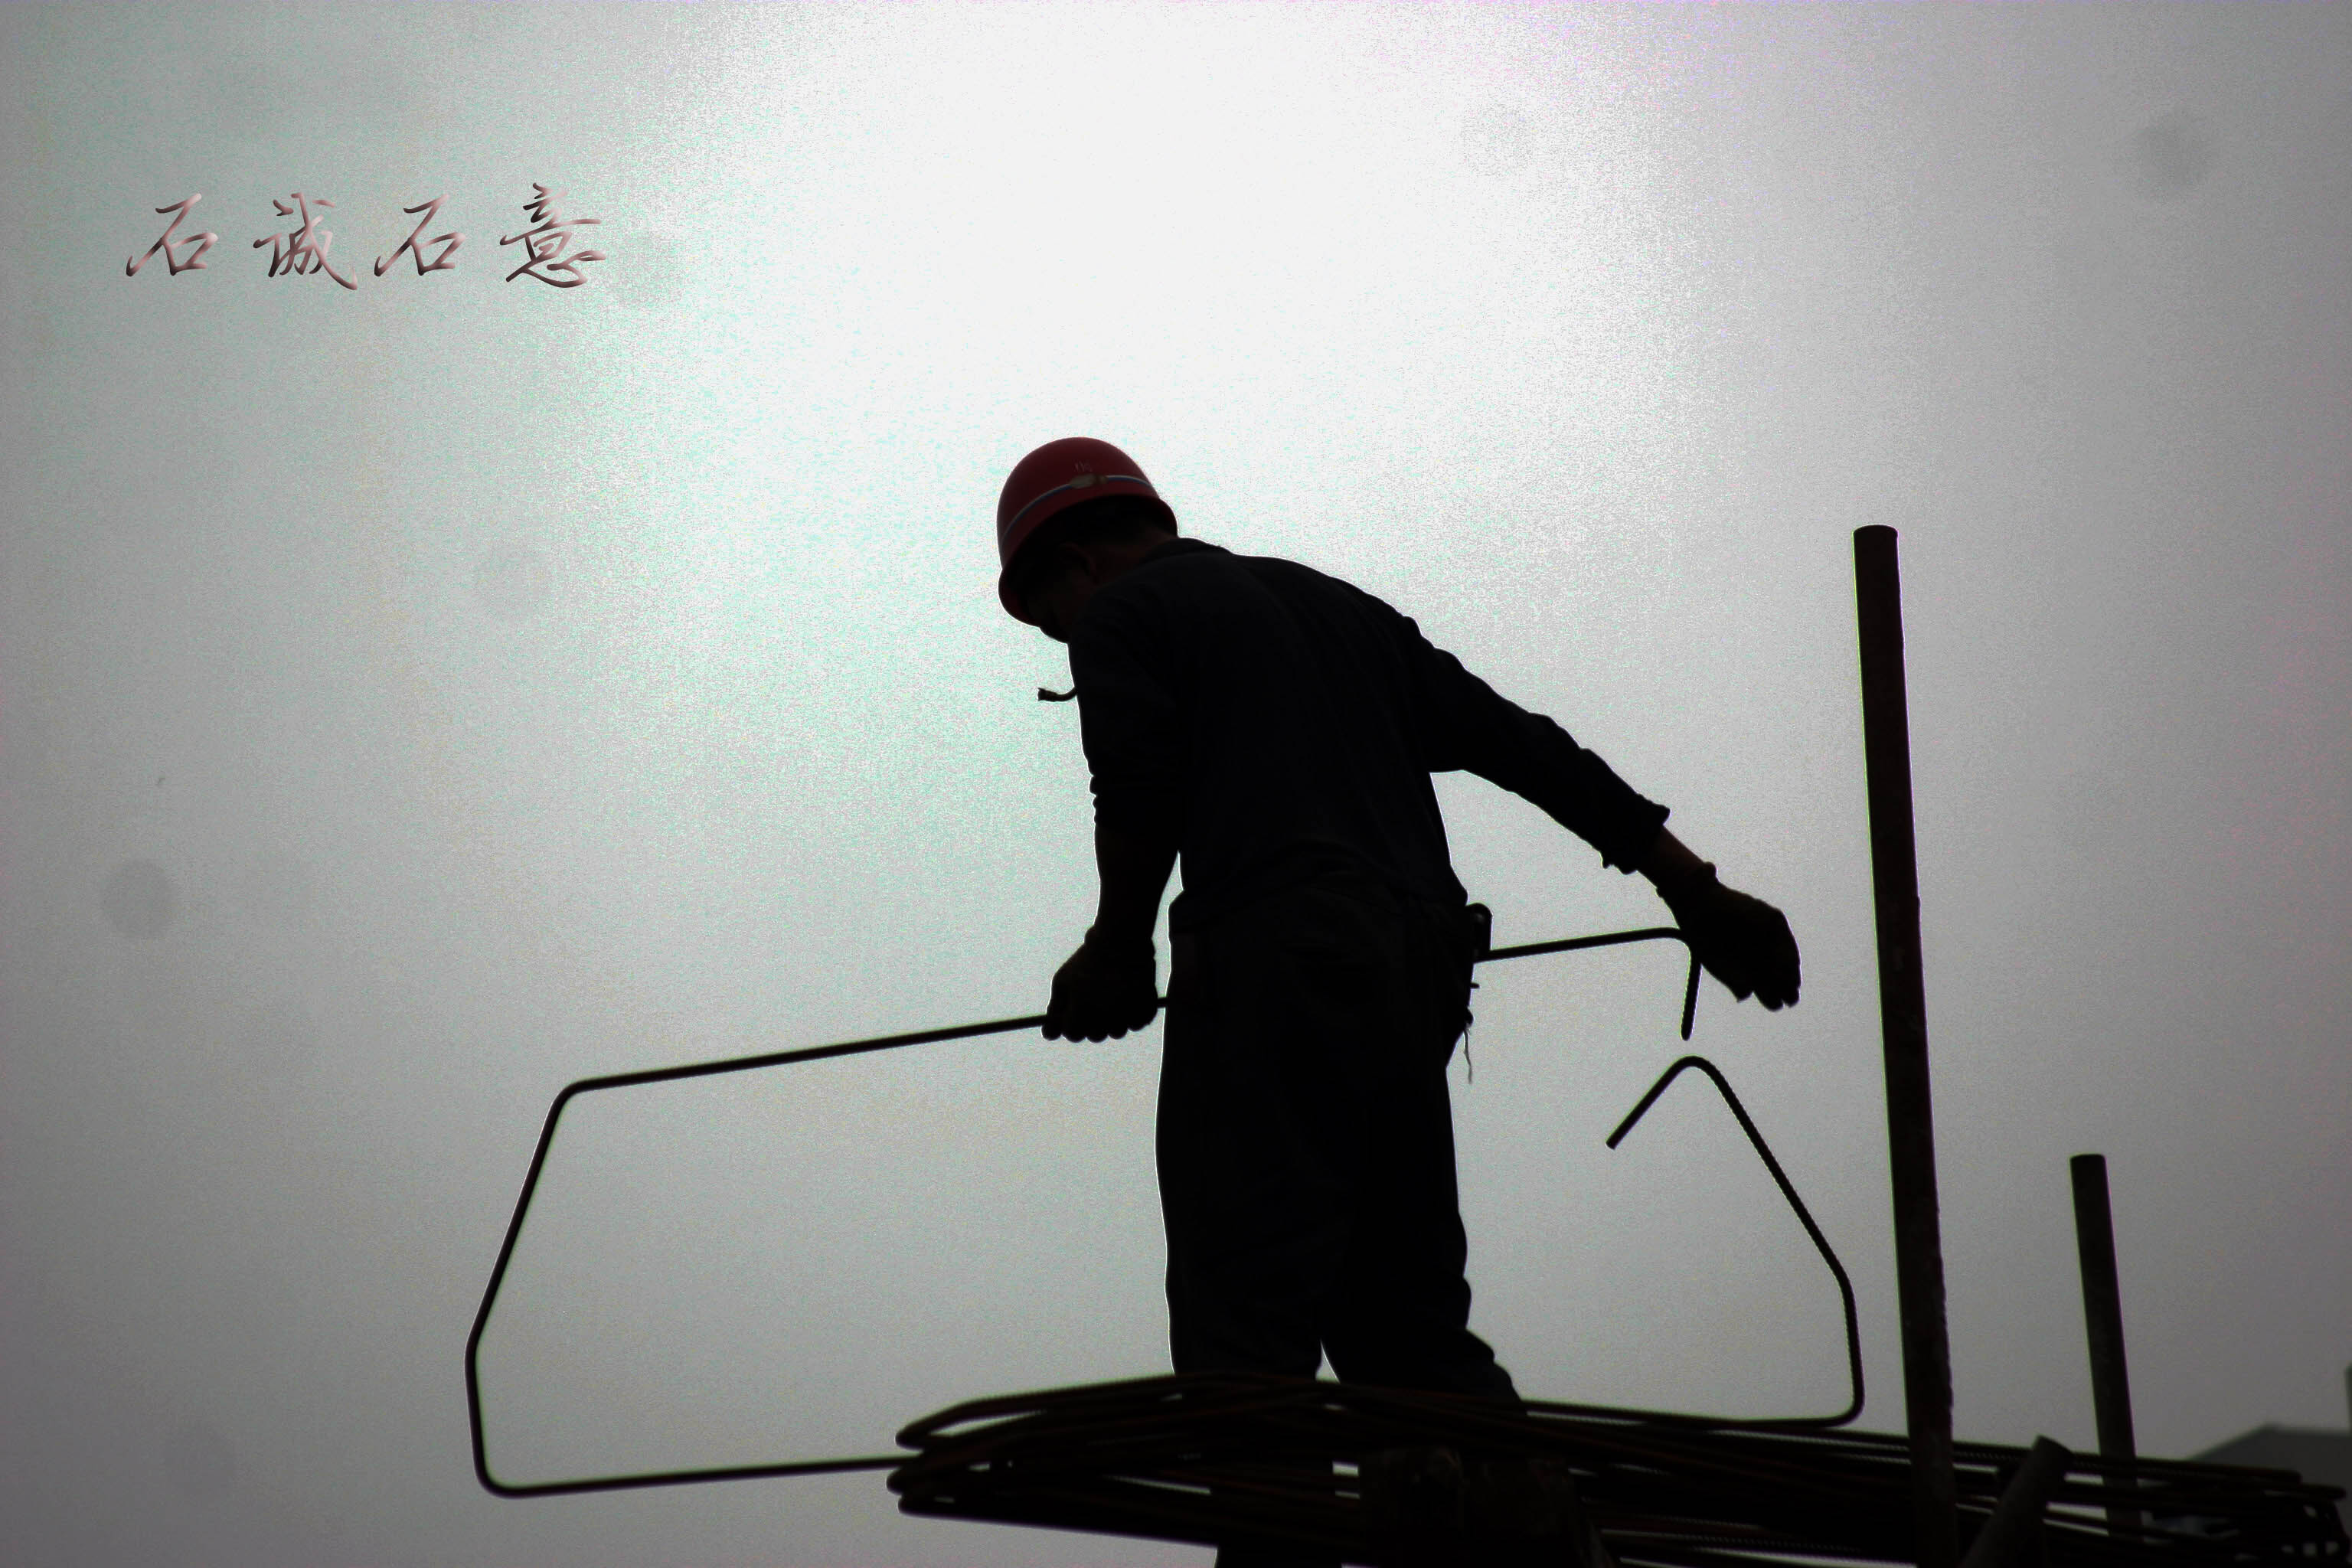safetyhat: (878, 380, 1682, 1242)
